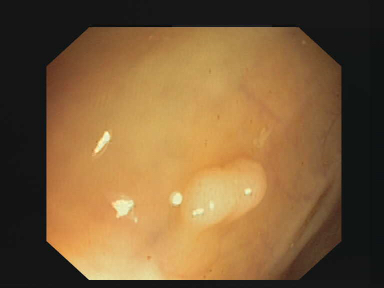polyp: (183, 157, 267, 231)
